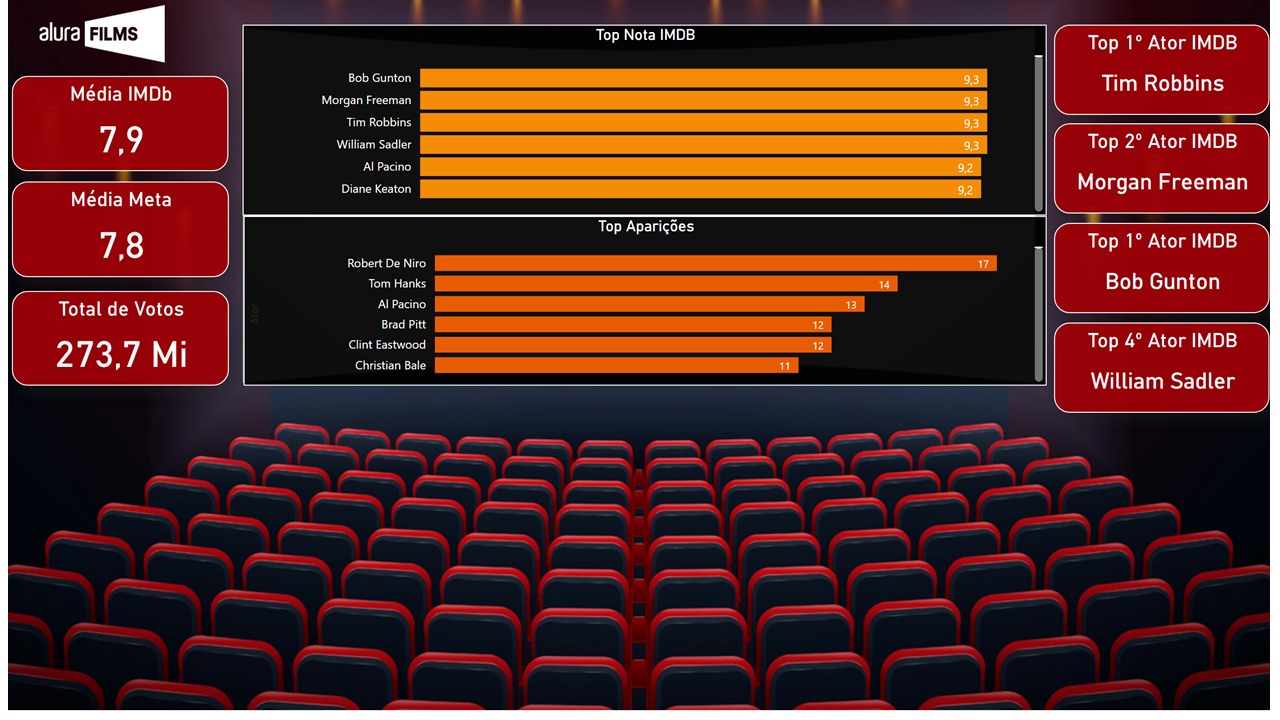

What the dashboard file says about the page in this screenshot:
{"tool":"powerbi","page":{"name":"Atores","canvas":[1280,720],"ordinal":3},"visuals":[{"type":"image","box":[0,0,190.7,68.7],"z":0},{"type":"card","title":"Média IMDb","fields":{"Values":["_Medidas.Media_IMDB"]},"box":[4.1,76.9,219.5,96.4],"z":1000},{"type":"card","title":"Total de Votos","fields":{"Values":["Sum(Filmes.Total_de_Votos)"]},"box":[4.3,294.6,219.9,96.1],"z":2000},{"type":"card","title":"Média Meta","fields":{"Values":["_Medidas.Media_META"]},"box":[4.3,183.6,219.9,97.1],"z":3000},{"type":"barChart","title":"Ranking Nota IMDB","fields":{"Y":["_Medidas.Max_IMDB"],"Category":["Max_IMDB_Atores.Ator"]},"box":[237.7,25.2,815.3,193.3],"z":4000},{"type":"barChart","title":"Ranking Aparições","fields":{"Category":["Contar_Atores.Ator"],"Y":["_Medidas.Contar_Atores"]},"box":[239.1,218.8,814.5,171.9],"z":5000},{"type":"card","title":"Top 1º Ator IMDB","fields":{"Values":["_Medidas.Top_1_Ator_IMDB"]},"box":[1061.5,25.2,218.5,91.3],"z":6000},{"type":"card","title":"Top 2º Ator IMDB","fields":{"Values":["_Medidas.Top_2_Ator_IMDB"]},"box":[1061.5,124.9,218.5,91.3],"z":7000},{"type":"card","title":"Top 1º Ator IMDB","fields":{"Values":["_Medidas.Top_3_Ator_IMDB"]},"box":[1061.5,225.7,218.5,91.3],"z":8000},{"type":"card","title":"Top 4º Ator IMDB","fields":{"Values":["_Medidas.Top_4_Ator_IMDB"]},"box":[1061.5,326.6,218.5,91.3],"z":9000},{"type":"pageNavigator","title":"ad","box":[140.5,659.2,1000.2,50.4],"z":10000}]}

Visuals, with their boxes in screenshot pixels (x1, y1, x2, y2), scaled from the page's 1280x720 canvas onto the 1280x720 screenshot:
image: box(0, 0, 191, 69)
"Média IMDb" card: box(4, 77, 224, 173)
"Total de Votos" card: box(4, 295, 224, 391)
"Média Meta" card: box(4, 184, 224, 281)
"Ranking Nota IMDB" barChart: box(238, 25, 1053, 218)
"Ranking Aparições" barChart: box(239, 219, 1054, 391)
"Top 1º Ator IMDB" card: box(1062, 25, 1279, 116)
"Top 2º Ator IMDB" card: box(1062, 125, 1279, 216)
"Top 1º Ator IMDB" card: box(1062, 226, 1279, 317)
"Top 4º Ator IMDB" card: box(1062, 327, 1279, 418)
"ad" pageNavigator: box(140, 659, 1141, 710)
